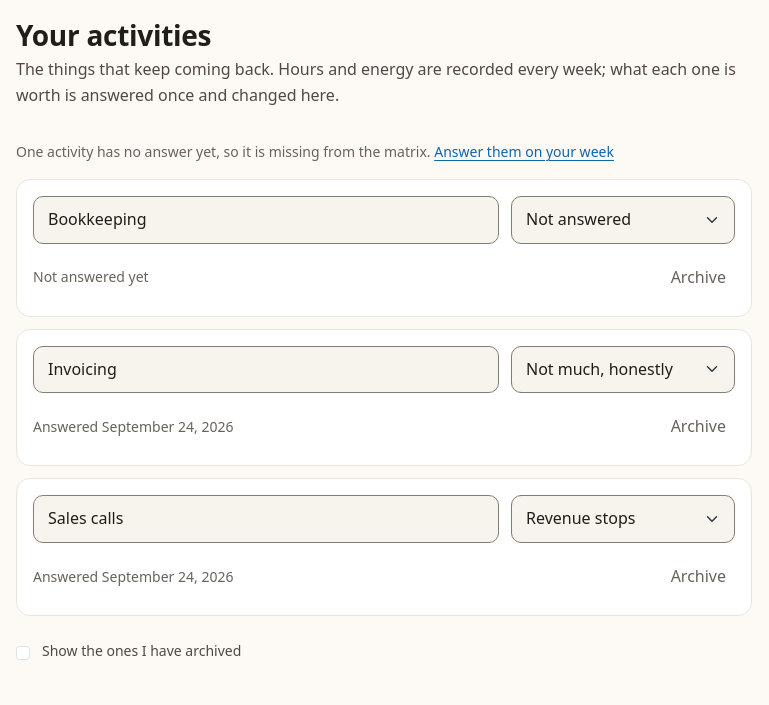
Test: the activities list › says how an archived activity comes back, rather than looking deleted
Expected: the heading "Your activities" is shown, [16,16,211,54]
Click the checkbox labelled "Show the ones I have archived": (23, 653) [16,646,30,660]
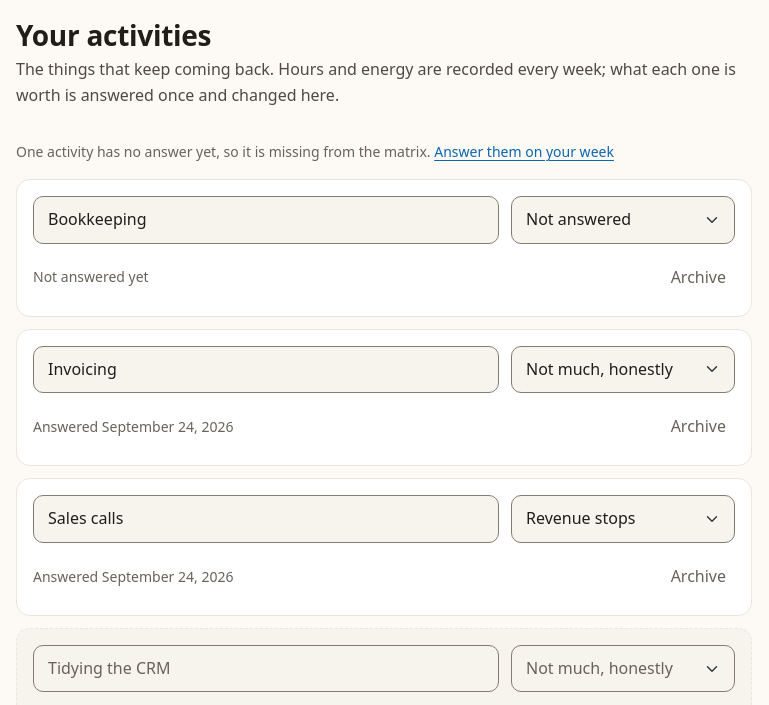
Expected: the 4th field showing "Tidying the CRM" is disabled, [33,645,499,692]
